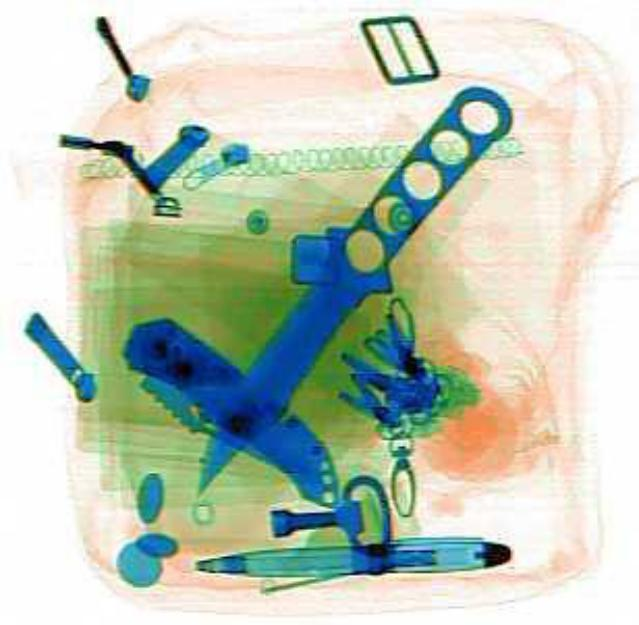Knife: (152, 71, 521, 502), (97, 301, 370, 522)
